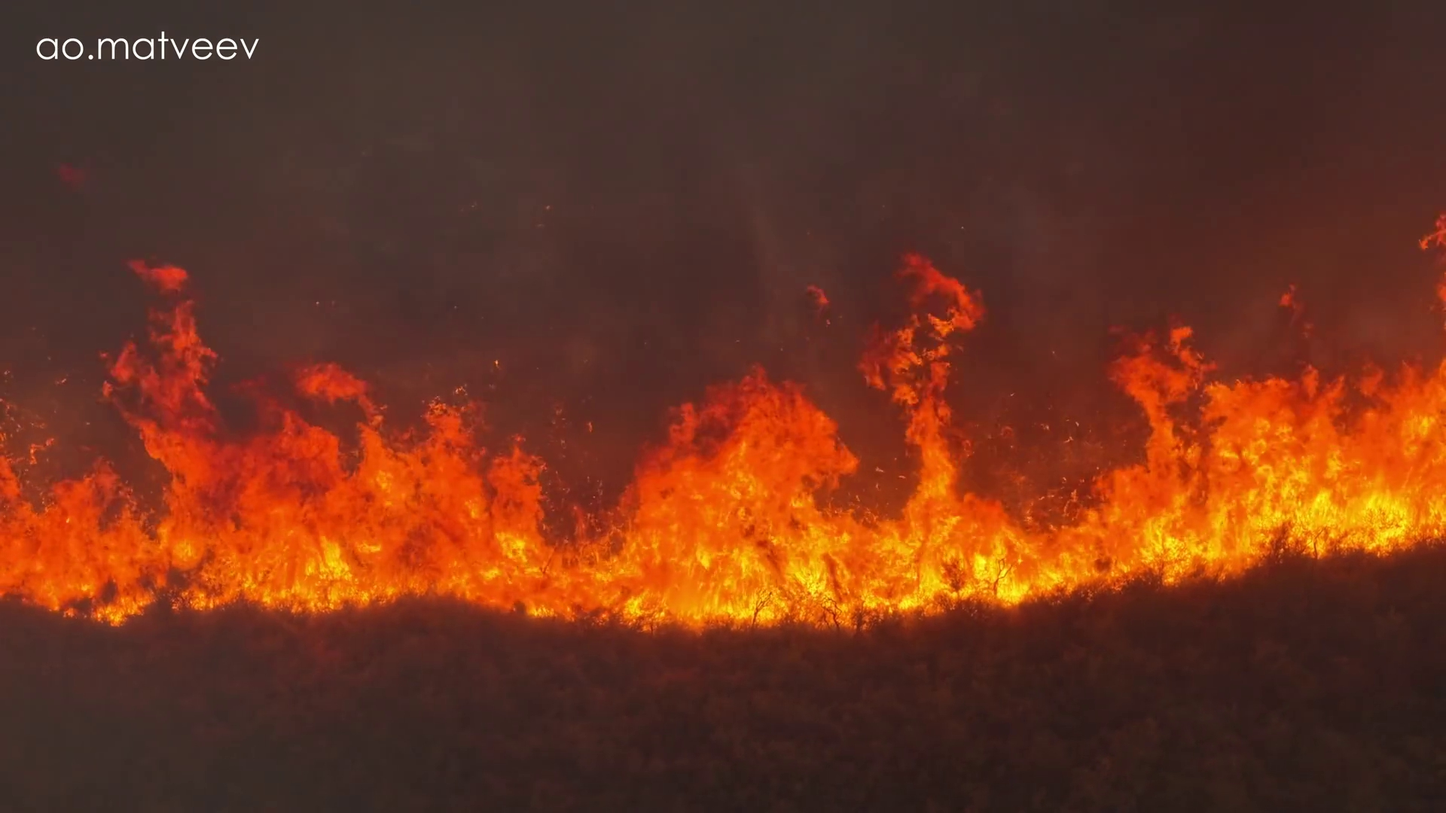forest_fire: (0, 254, 1445, 623), (1421, 228, 1445, 248), (1283, 289, 1296, 315), (813, 291, 825, 306), (31, 488, 36, 492), (31, 449, 33, 453)
